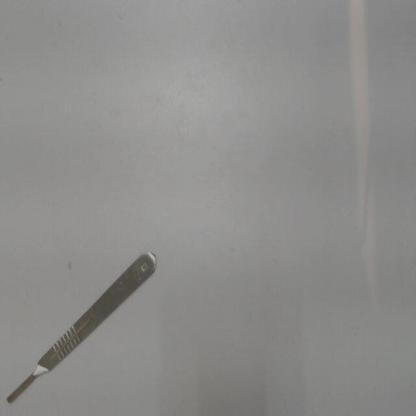No.4 BP Handle: (3, 239, 164, 411)
